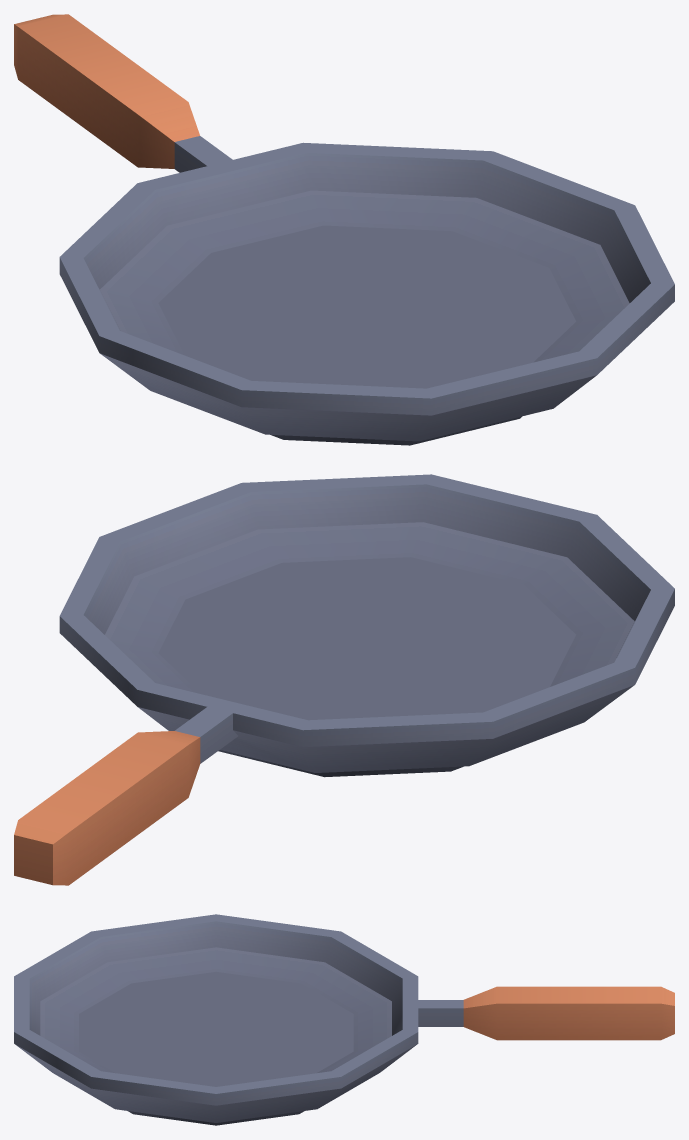
File: food.frying_pan.glb
The picture shows the model from 3 angles, top to bottom: view 1: azimuth 30°, elevation 25°; view 2: azimuth 150°, elevation 25°; view 3: azimuth 270°, elevation 25°; orthographic projection. The views are drawn at different scales.
Parts seen in each view (by area): view 1: frying-pan; view 2: frying-pan; view 3: frying-pan.
Part boxes in pixels (x1,y1,x2,y2): frying-pan: [14, 14, 674, 445]; frying-pan: [14, 474, 674, 885]; frying-pan: [14, 914, 674, 1125].
Size of the model in its own units: 0.1953 by 0.0358 by 0.3036.
1 material, 1 textured.
